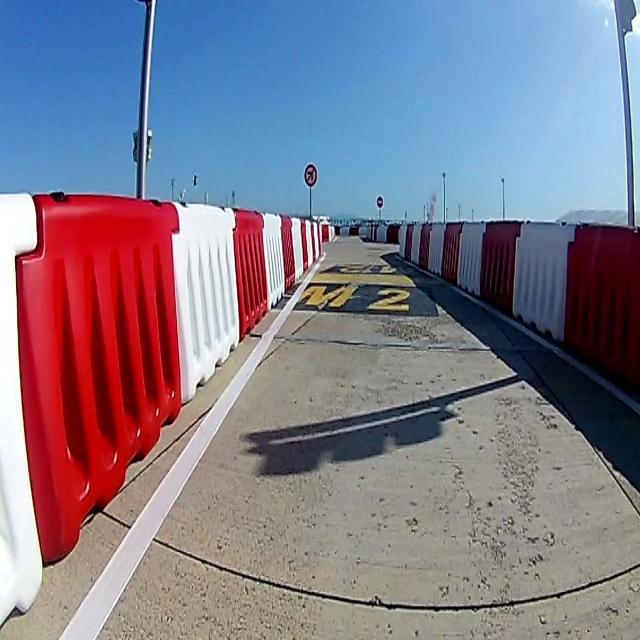girisyok: (376, 196, 383, 208)
soladonulmez: (304, 164, 317, 187)
